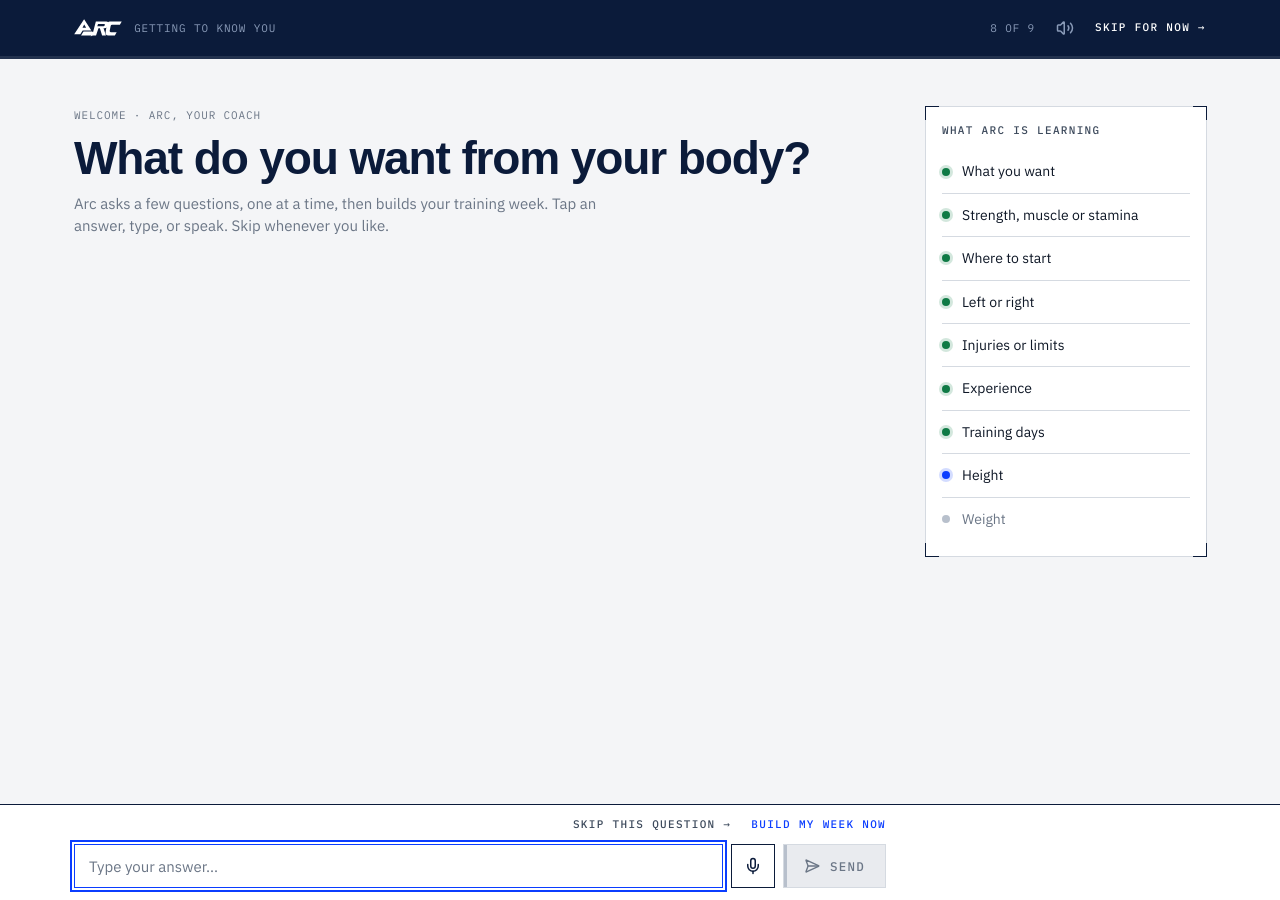
it: WelcomePage › skips a question, or skips the rest and builds the week from what was said
Click the button "Skip this question →" at (652, 824), box [573,817,731,832]
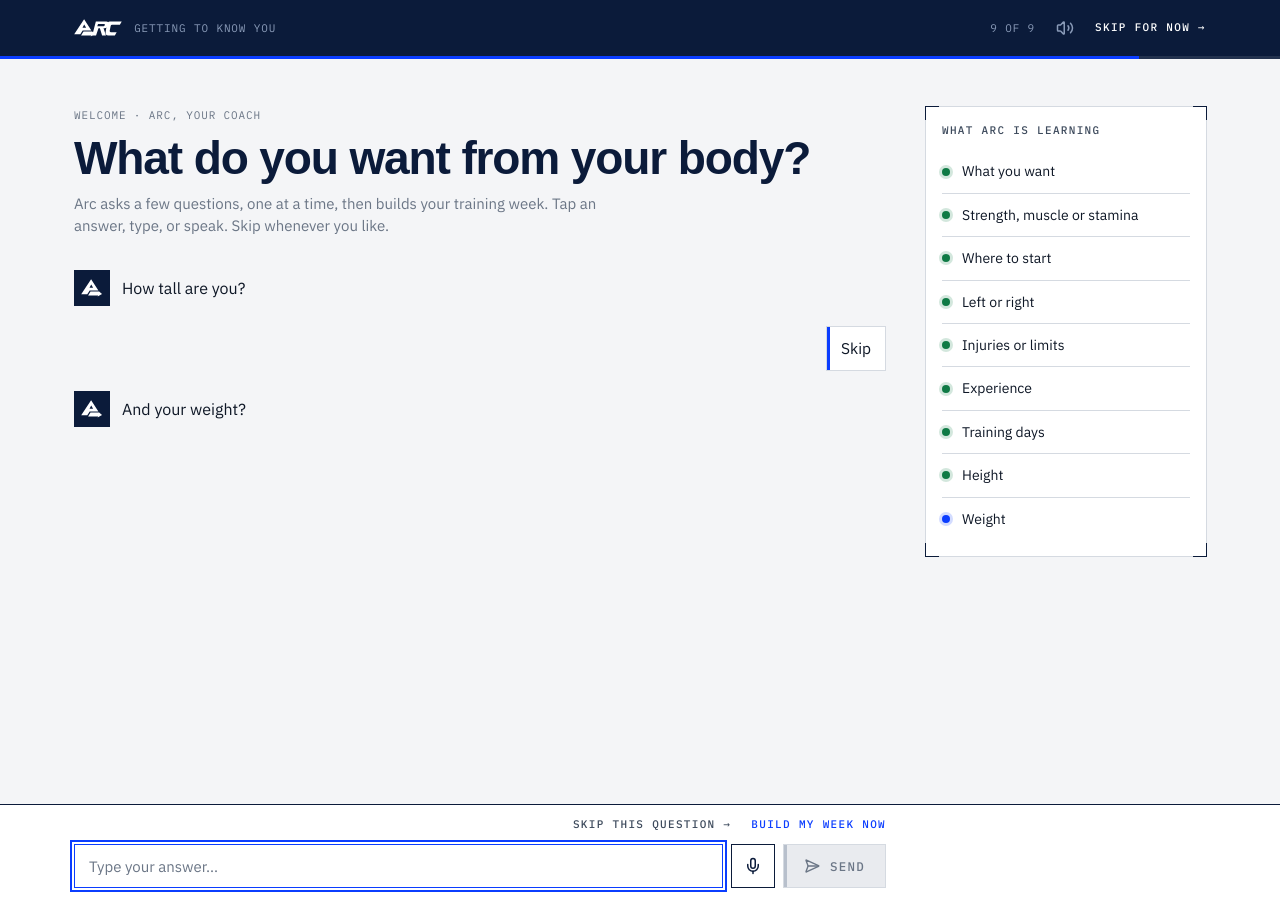
Check: the text "And your weight?" is shown, box [121,398,246,419]
Click the button "Build my week now" at (819, 824), box [751,817,886,832]
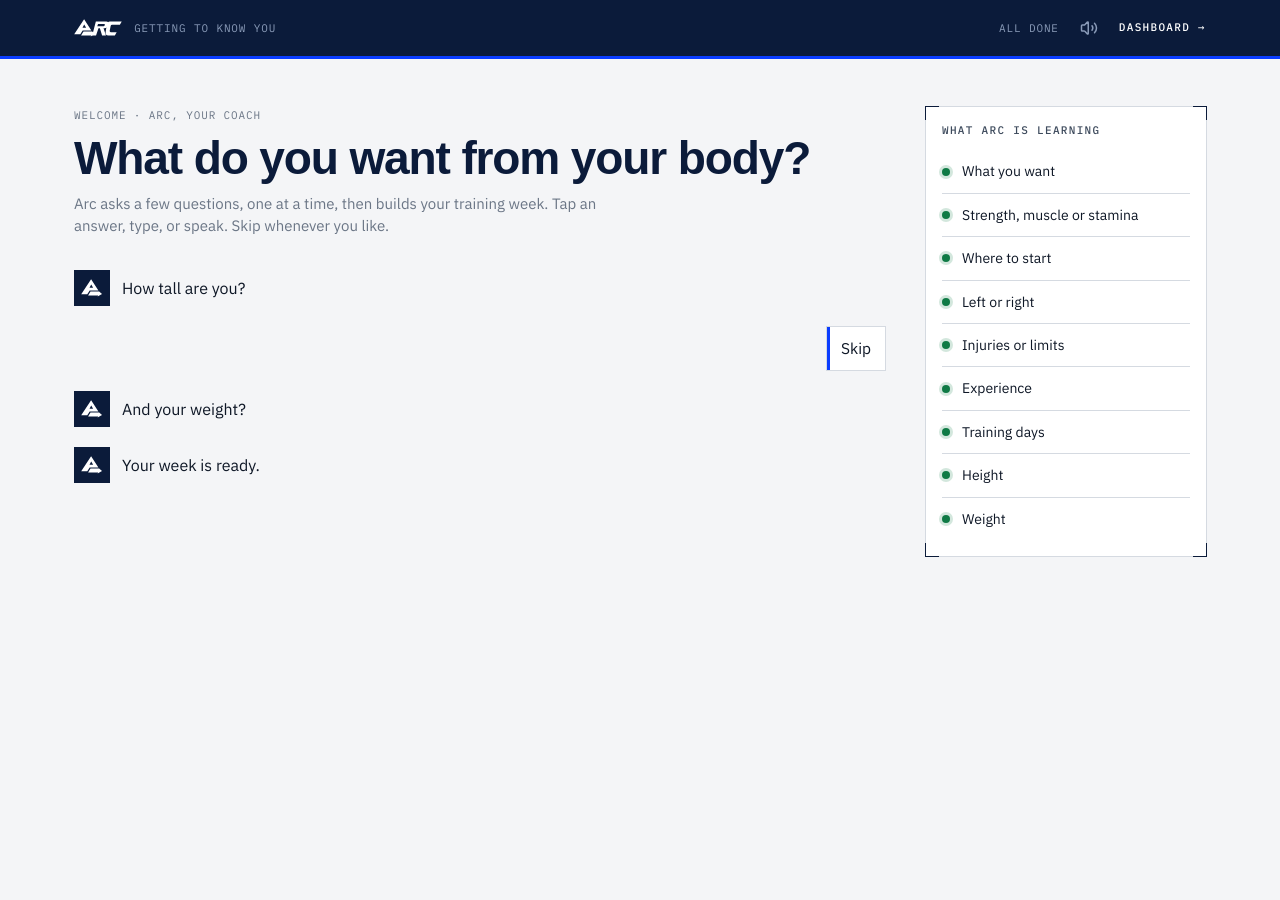
Check: the text "Your week is ready." is shown, box [121,454,260,475]
Check: the button "Skip this question" is gone
